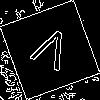V: (25, 25, 75, 80)
